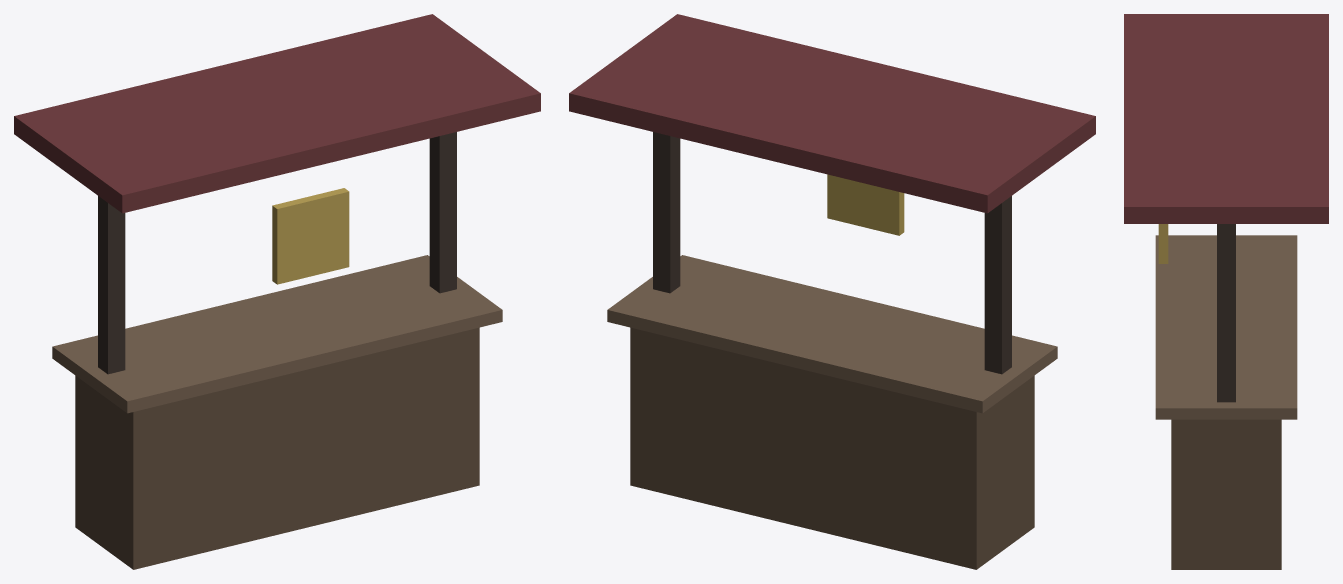
Rendered from bank_booth.glb.
3 renders of one model, left to right at view 1: azimuth 30°, elevation 25°; view 2: azimuth 150°, elevation 25°; view 3: azimuth 270°, elevation 25°, orthographic. The views are drawn at different scales.
Visible parts, largest first — view 1: bank_booth; view 2: bank_booth; view 3: bank_booth.
Boxes of the visible parts, x1,y1,x2,y2 form: bank_booth: [14, 14, 540, 569]; bank_booth: [569, 14, 1095, 569]; bank_booth: [1124, 14, 1328, 569].
Size of the model in its own units: 2.9 by 2.66 by 1.3.
1 material, 1 textured.
